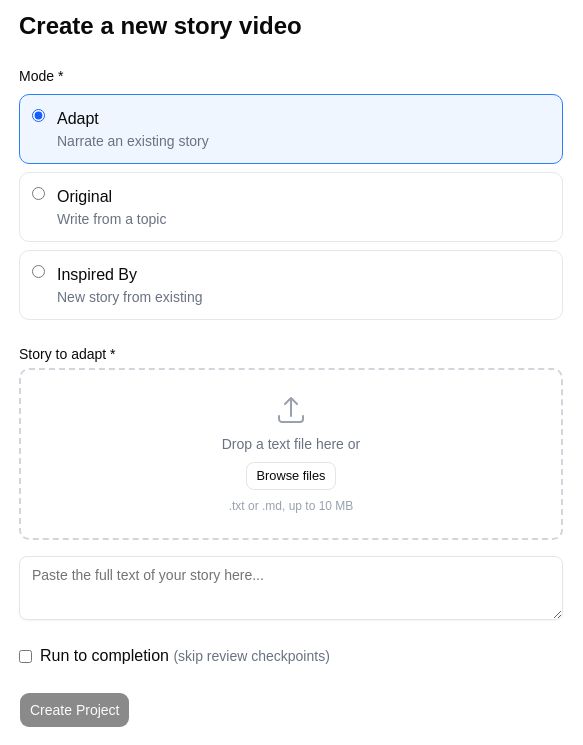
Test: UnifiedProjectPage - Creation mode › enables submit button when source text is provided
Type "Once upon a time" into the text box labelled "Story to adapt *" at (291, 588), box [19,556,563,620]
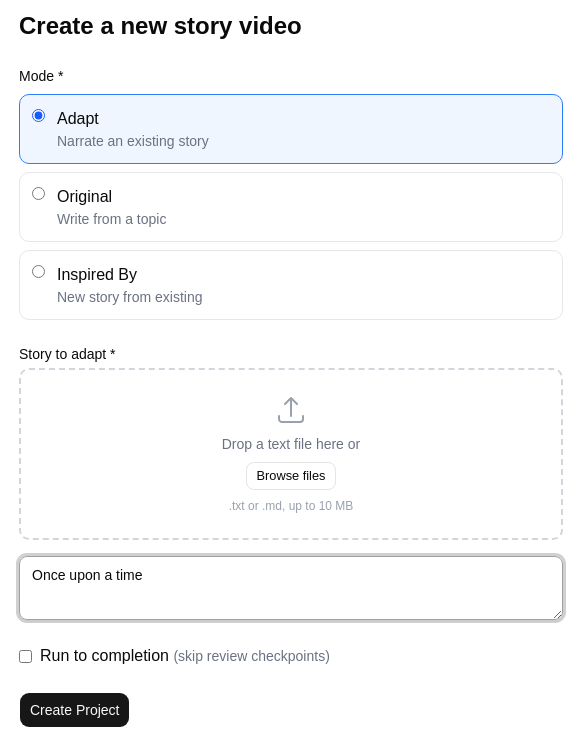
Now the button "Create Project" is enabled, box [19,692,130,728]
